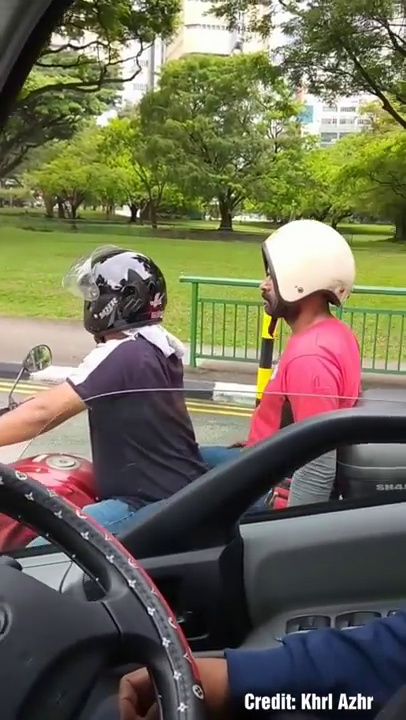helmet: (59, 247, 179, 329), (253, 221, 358, 310)
